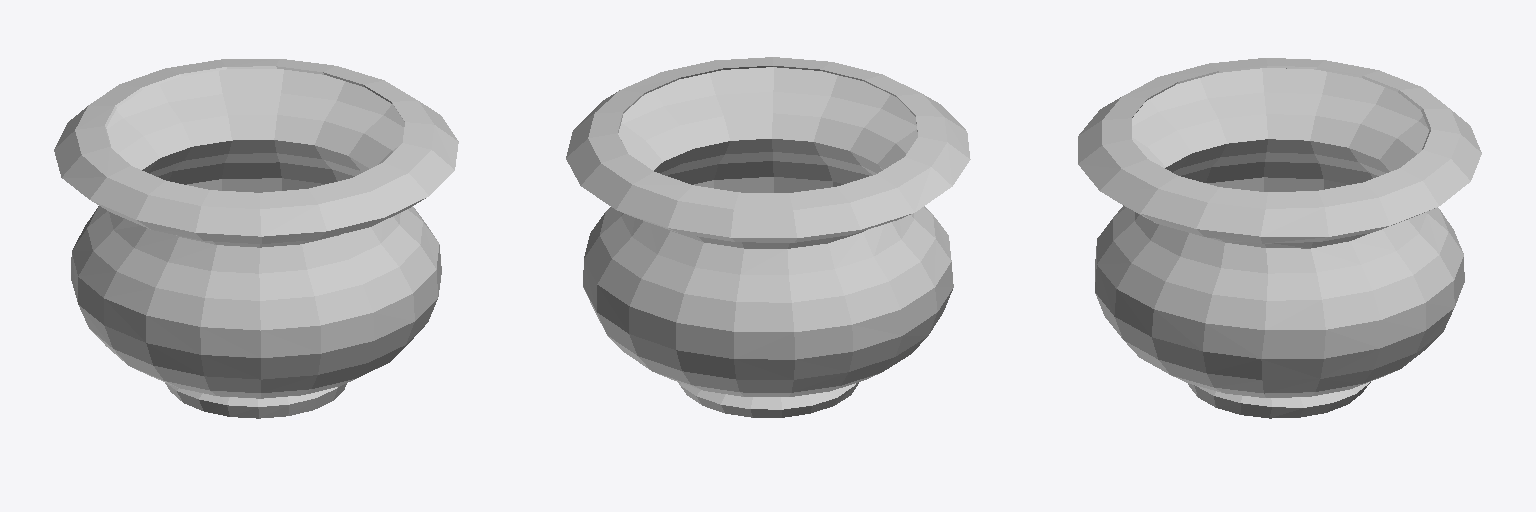
File: NFelsch_GoldfishandBowl_Mesh.obj
The picture shows the model from 3 angles: view 1: azimuth 30°, elevation 25°; view 2: azimuth 150°, elevation 25°; view 3: azimuth 270°, elevation 25°; orthographic projection.
Parts seen in each view (by area): view 1: Bowl; view 2: Bowl; view 3: Bowl.
Boxes of the visible parts, x1,y1,x2,y2 form: Bowl: [54, 59, 458, 418]; Bowl: [566, 57, 970, 417]; Bowl: [1078, 58, 1481, 418].
Size of the model in its own units: 13.23 by 9.15 by 13.19.